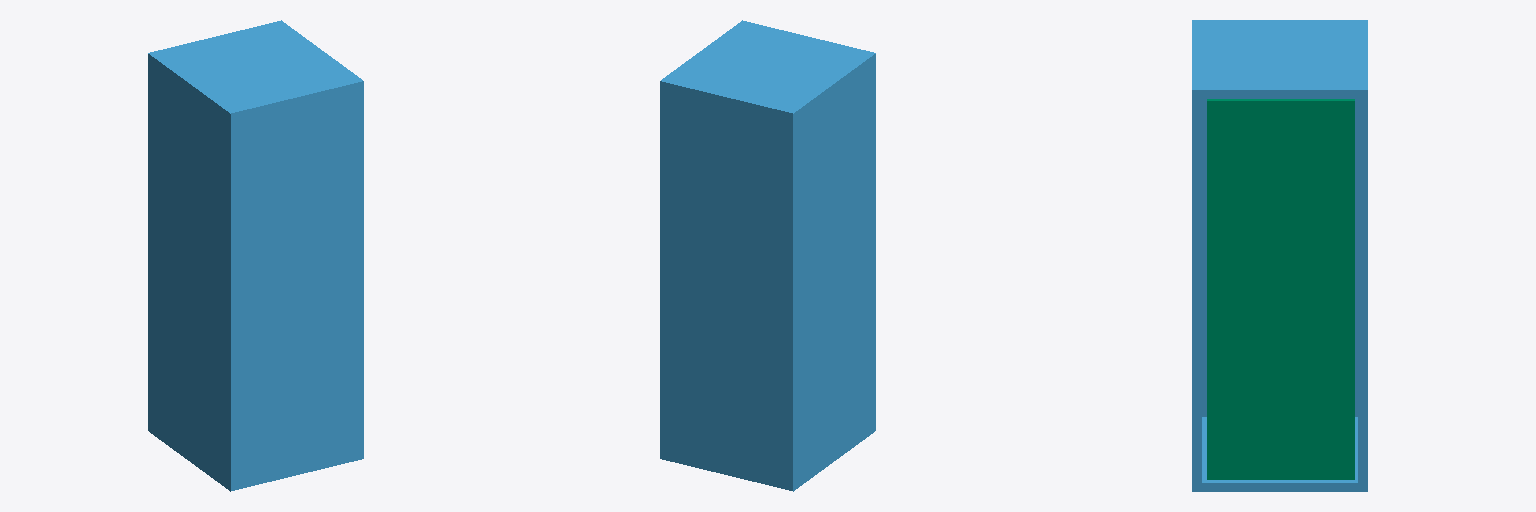
robot.urdf — my_cabinet:
<?xml version="1.0" ?>
<robot name="my_cabinet">
	<link name="world"/>
	<joint name="virtual_joint" type="fixed">
		<parent link="world"/>
		<child link="base_cabinet_link"/>
		<origin xyz="0.0 0.0 0.0" rpy="0.0 0.0 0.0"/>
	</joint>
	<link name="base_cabinet_link">
		<visual>
			<origin xyz="0.0 -0.0025 -0.39615002595775917" rpy="0.0 0.0 0.0"/>
			<geometry>
				<box size="0.3 0.32149466086151346 0.018"/>
			</geometry>
		</visual>
		<collision name="base_cabinet_link_collision_0">
			<origin xyz="0.0 -0.0025 -0.39615002595775917" rpy="0.0 0.0 0.0"/>
			<geometry>
				<box size="0.3 0.32149466086151346 0.018"/>
			</geometry>
		</collision>
		<visual>
			<origin xyz="0.0 0.14924733043075675 0.0" rpy="0.0 0.0 0.0"/>
			<geometry>
				<box size="0.3 0.018 0.8103000519155183"/>
			</geometry>
		</visual>
		<collision name="base_cabinet_link_collision_1">
			<origin xyz="0.0 0.14924733043075675 0.0" rpy="0.0 0.0 0.0"/>
			<geometry>
				<box size="0.3 0.018 0.8103000519155183"/>
			</geometry>
		</collision>
		<visual>
			<origin xyz="0.0 -0.15424733043075675 0.0" rpy="0.0 0.0 0.0"/>
			<geometry>
				<box size="0.3 0.018 0.8103000519155183"/>
			</geometry>
		</visual>
		<collision name="base_cabinet_link_collision_2">
			<origin xyz="0.0 -0.15424733043075675 0.0" rpy="0.0 0.0 0.0"/>
			<geometry>
				<box size="0.3 0.018 0.8103000519155183"/>
			</geometry>
		</collision>
		<visual>
			<origin xyz="0.0 -0.0025 0.39615002595775917" rpy="0.0 0.0 0.0"/>
			<geometry>
				<box size="0.3 0.32149466086151346 0.018"/>
			</geometry>
		</visual>
		<collision name="base_cabinet_link_collision_3">
			<origin xyz="0.0 -0.0025 0.39615002595775917" rpy="0.0 0.0 0.0"/>
			<geometry>
				<box size="0.3 0.32149466086151346 0.018"/>
			</geometry>
		</collision>
		<visual>
			<origin xyz="-0.141 -0.0025 0.0" rpy="0.0 0.0 0.0"/>
			<geometry>
				<box size="0.018 0.32149466086151346 0.8103000519155183"/>
			</geometry>
		</visual>
		<collision name="base_cabinet_link_collision_4">
			<origin xyz="-0.141 -0.0025 0.0" rpy="0.0 0.0 0.0"/>
			<geometry>
				<box size="0.018 0.32149466086151346 0.8103000519155183"/>
			</geometry>
		</collision>
		<inertial>
			<mass value="0.200000"/>
			<inertia ixx="0.012666" ixy="0.0" ixz="0.0" iyy="0.012443" iyz="0.0" izz="0.003223"/>
		</inertial>
	</link>
	<link name="door_link">
		<visual>
			<origin xyz="0.0 -0.13524733043075673 0.0"/>
			<geometry>
				<box size="0.018 0.27049466086151347 0.7643000519155183"/>
			</geometry>
		</visual>
		<collision name="door_link_collision">
			<origin xyz="0.0 -0.13524733043075673 0.0"/>
			<geometry>
				<box size="0.018 0.27049466086151347 0.7643000519155183"/>
			</geometry>
		</collision>
		<inertial>
			<mass value="0.200000"/>
			<inertia ixx="0.010955" ixy="0.0" ixz="0.0" iyy="0.009741" iyz="0.0" izz="0.001225"/>
		</inertial>
	</link>
	<joint name="door_joint" type="revolute">
		<origin xyz="0.141 -0.13524733043075673 0.0" rpy="0.000000 -0.000000 3.141593"/>
		<axis xyz="0 0 1"/>
		<parent link="base_cabinet_link"/>
		<child link="door_link"/>
		<limit effort="50" lower="-1.658062789394613" upper="0" velocity="10"/>
		<dynamics friction="3.5" damping="3.5"/>
	</joint>
	<gazebo reference="base_cabinet_link">
		<sensor name="main_sensor" type="contact">
			<selfCollide>true</selfCollide>
			<alwaysOn>true</alwaysOn>
			<updateRate>5.0</updateRate>
			<material>Gazebo/Red</material>
			<contact>
				<collision>base_cabinet_link_collision_0_collision</collision>
				<collision>base_cabinet_link_collision_1_collision</collision>
				<collision>base_cabinet_link_collision_2_collision</collision>
				<collision>base_cabinet_link_collision_3_collision</collision>
				<collision>base_cabinet_link_collision_4_collision</collision>
			</contact>
			<plugin name="gazebo_ros_bumper_controller" filename="libgazebo_ros_bumper.so">
				<bumperTopicName>/contact</bumperTopicName>
				<frameName>world</frameName>
			</plugin>
		</sensor>
	</gazebo>
	<gazebo reference="door_link">
		<sensor name="main_sensor" type="contact">
			<selfCollide>true</selfCollide>
			<alwaysOn>true</alwaysOn>
			<updateRate>5.0</updateRate>
			<material>Gazebo/Red</material>
			<contact>
				<collision>door_link_collision_collision</collision>
			</contact>
			<plugin name="gazebo_ros_bumper_controller" filename="libgazebo_ros_bumper.so">
				<bumperTopicName>/contact_door</bumperTopicName>
				<frameName>contact_door</frameName>
			</plugin>
		</sensor>
	</gazebo>
	<gazebo reference="door_link">
		<mu>3.0</mu>
		<mu2>3.0</mu2>
		<kp>10000000</kp>
		<kd>100</kd>
	</gazebo>
</robot>

--- Render facts (derived) ---
Views: 3 orthographic renders of the robot side by side, from view 1: azimuth 30°, elevation 25°; view 2: azimuth 150°, elevation 25°; view 3: azimuth 270°, elevation 25°.
Robot: my_cabinet — 3 links, 2 joints (1 revolute, 1 fixed); root link world; default pose: every joint at zero.
Links seen in each view (by area): view 1: base_cabinet_link; view 2: base_cabinet_link; view 3: door_link, base_cabinet_link.
Boxes of the visible links, left/top/right/bottom form: base_cabinet_link: left=148, top=20, right=363, bottom=491; base_cabinet_link: left=660, top=20, right=875, bottom=491; door_link: left=1207, top=99, right=1354, bottom=479; base_cabinet_link: left=1192, top=20, right=1367, bottom=491.
Size in the robot's own frame: 0.3 by 0.3215 by 0.8103 metres.
Geometry: primitives only (box / cylinder / sphere), no mesh files.
